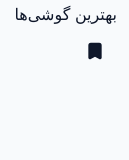
Test: ReadingListButton › a press on a saved post removes it with one DELETE (204, no body)
Click the button named "حذف از لیست مطالعه": click(95, 51) [73,29,117,73]
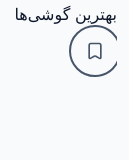
Expected: the button named "حذف از لیست مطالعه" is not pressed, [73,29,117,73]
